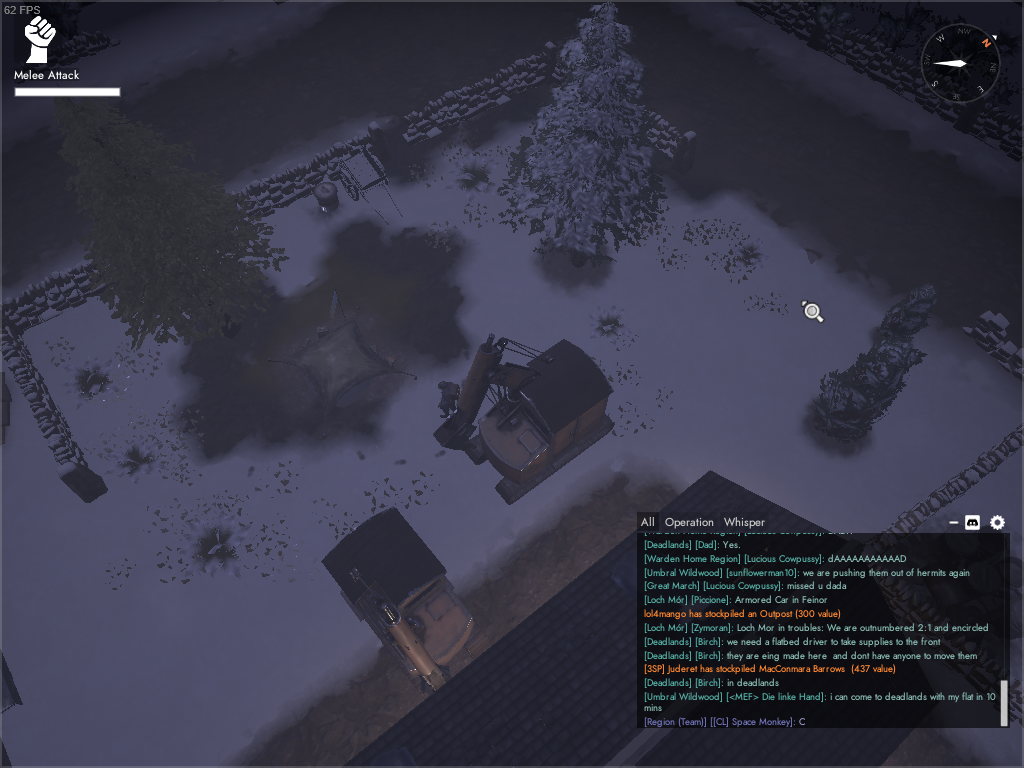foxhole: (268, 288, 419, 439)
player: (437, 380, 461, 420)
scv: (320, 507, 491, 699), (434, 333, 617, 506)
